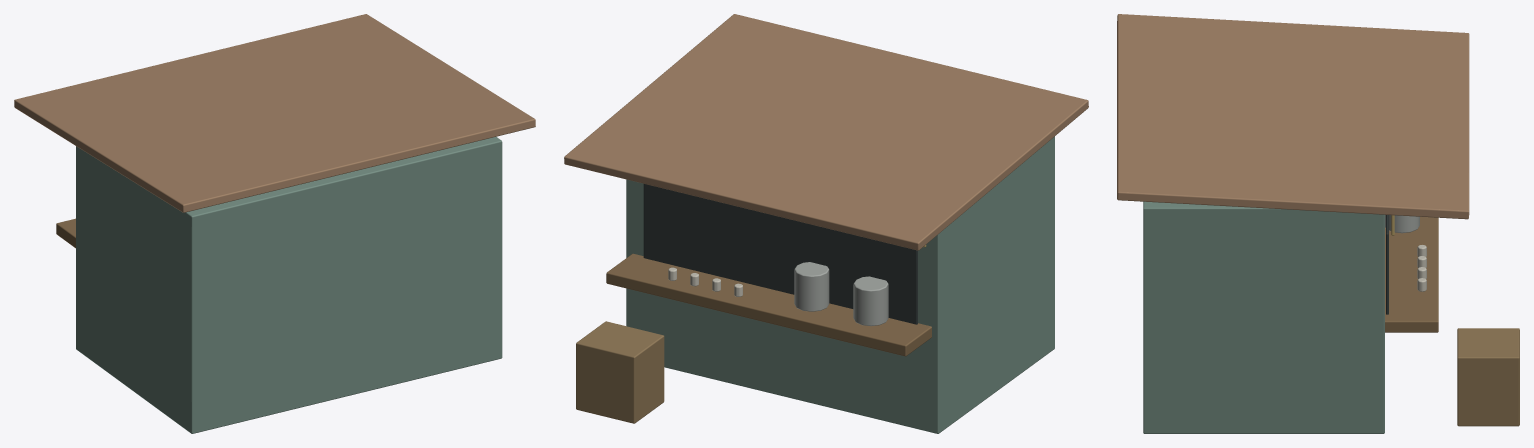
Rendered from tea_kiosk.glb.
3 renders of one model, left to right at view 1: azimuth 30°, elevation 25°; view 2: azimuth 150°, elevation 25°; view 3: azimuth 270°, elevation 25°, orthographic. The views are drawn at different scales.
Parts seen in each view (by area): view 1: tea_kiosk; view 2: tea_kiosk; view 3: tea_kiosk.
Part boxes in pixels (x1=…): tea_kiosk: x1=14, y1=14, x2=535, y2=433; tea_kiosk: x1=564, y1=14, x2=1088, y2=433; tea_kiosk: x1=1117, y1=14, x2=1519, y2=433.
Size of the model in its own units: 4.2 by 2.77 by 4.
